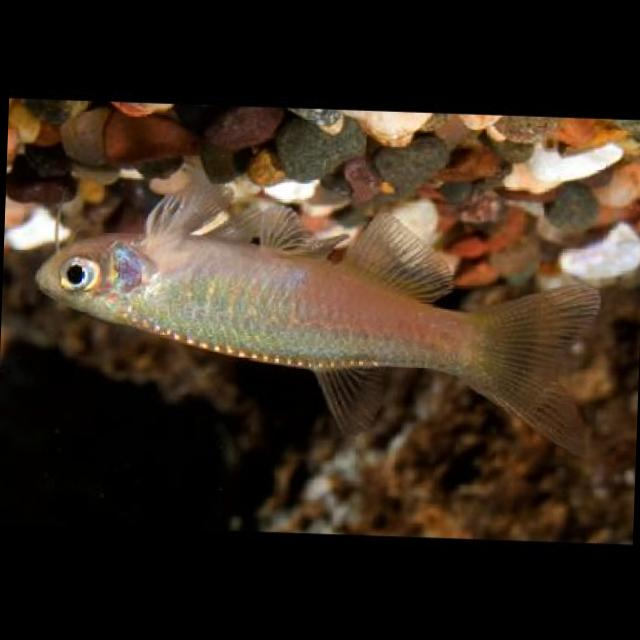ZebraFish: (26, 188, 596, 454)
